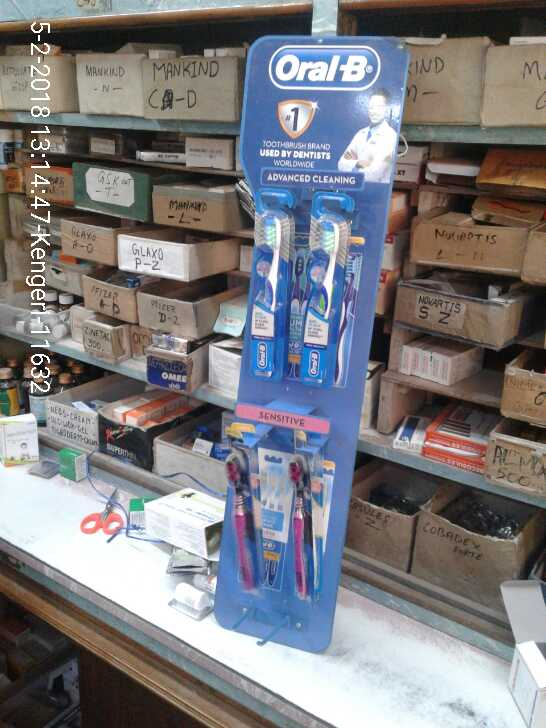oralb: (301, 212, 349, 381), (277, 439, 329, 590), (247, 208, 286, 378), (220, 436, 256, 596)
